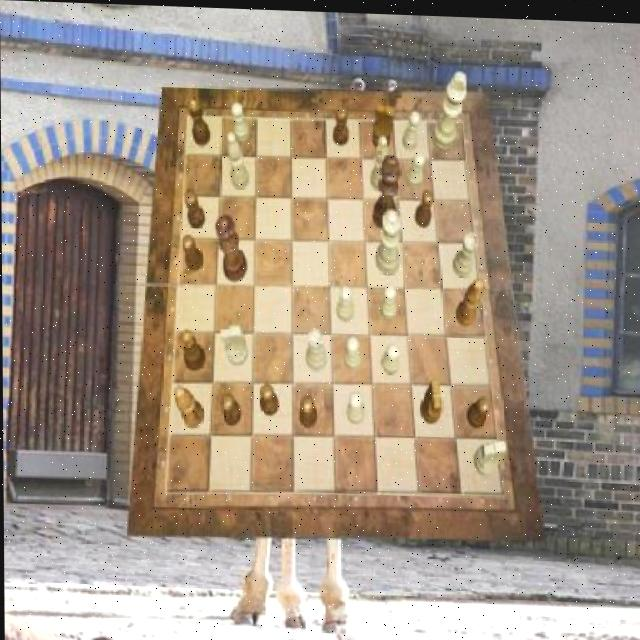bishop: (456, 275, 483, 324), (173, 383, 203, 427)
black-bishop: (372, 153, 401, 228)
black-king: (372, 100, 395, 148), (419, 375, 442, 422)
black-knight: (181, 233, 204, 270), (467, 392, 490, 427), (414, 187, 433, 225), (186, 190, 206, 226), (221, 391, 241, 425), (259, 381, 278, 414), (333, 105, 349, 144), (299, 393, 317, 426)
black-pawn: (215, 212, 248, 281)
black-queen: (188, 95, 211, 145), (177, 330, 205, 370)
black-rook: (227, 130, 250, 188), (371, 132, 389, 189)
white-bishop: (431, 68, 467, 149)
white-king: (473, 435, 507, 472), (221, 325, 248, 364)
white-knight: (407, 150, 427, 187), (231, 101, 249, 141), (402, 109, 420, 149), (335, 284, 353, 320), (380, 340, 400, 372), (347, 389, 365, 423), (380, 281, 397, 317), (344, 333, 361, 368)
white-pawn: (375, 206, 402, 273)
white-queen: (452, 228, 479, 275), (305, 326, 326, 369)
